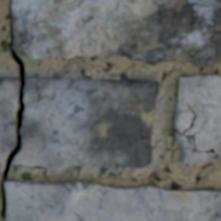brick: (12, 0, 220, 66), (5, 180, 220, 220), (175, 76, 220, 163)
broken_brick: (14, 77, 158, 172), (0, 80, 17, 164)
crack: (0, 2, 27, 218), (175, 102, 219, 157)
